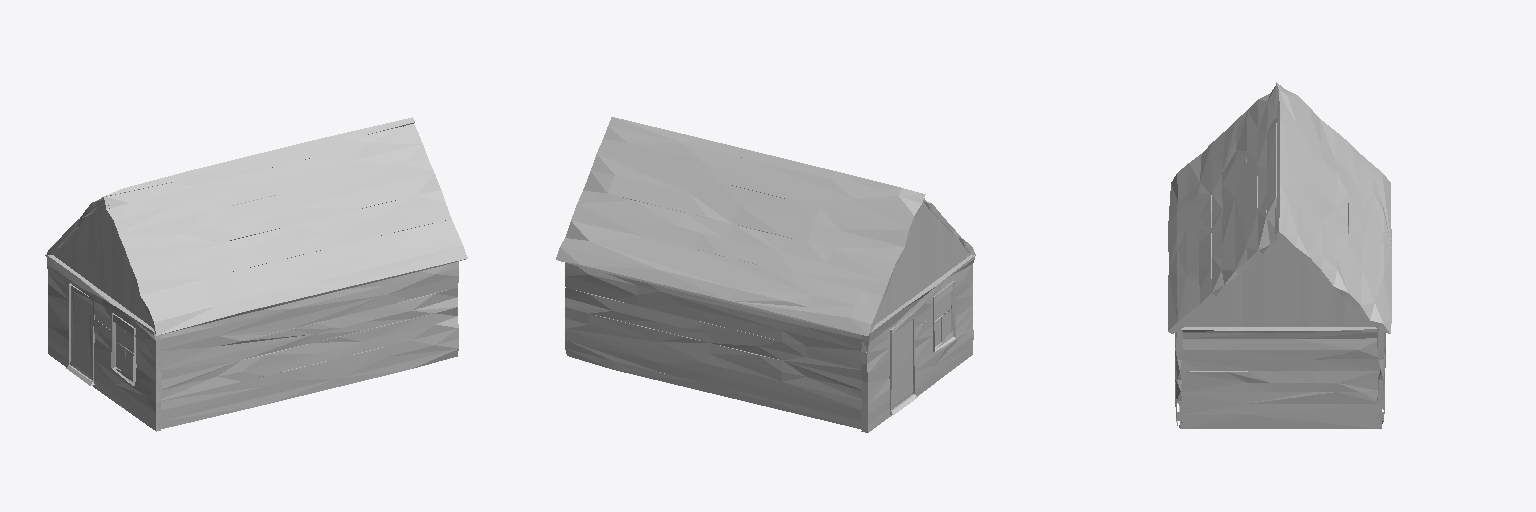
The model's file is Building01_LOD2.obj.
The picture shows the model from 3 angles: view 1: azimuth 30°, elevation 25°; view 2: azimuth 150°, elevation 25°; view 3: azimuth 270°, elevation 25°; orthographic projection.
Parts seen in each view (by area): view 1: WildWest_Building01_Roof._WildWest_Building01_Roof, WildWest_Building01_Walls, WildWest_Building01_Door, WildWest_Building01_Window; view 2: WildWest_Building01_Roof._WildWest_Building01_Roof, WildWest_Building01_Walls, WildWest_Building01_Door, WildWest_Building01_Window; view 3: WildWest_Building01_Roof._WildWest_Building01_Roof, WildWest_Building01_Walls.
Part boxes in pixels (x1,y1,x2,y2): WildWest_Building01_Roof._WildWest_Building01_Roof: (45, 117, 467, 335); WildWest_Building01_Walls: (46, 254, 458, 431); WildWest_Building01_Door: (71, 291, 92, 376); WildWest_Building01_Window: (116, 324, 133, 376); WildWest_Building01_Roof._WildWest_Building01_Roof: (556, 117, 975, 335); WildWest_Building01_Walls: (565, 254, 974, 432); WildWest_Building01_Door: (891, 320, 912, 406); WildWest_Building01_Window: (934, 292, 950, 346); WildWest_Building01_Roof._WildWest_Building01_Roof: (1168, 82, 1391, 333); WildWest_Building01_Walls: (1175, 327, 1385, 428).
Bounding box in the file's own units: 9.42 × 5.79 × 5.78.